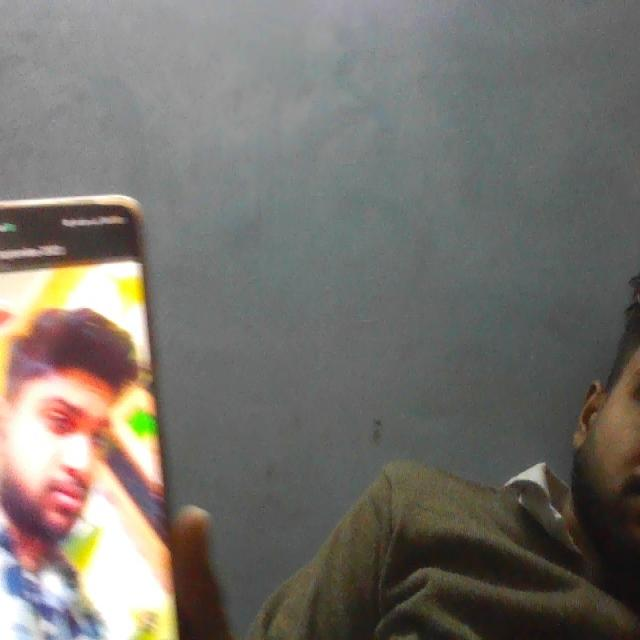fake: (0, 287, 147, 565)
